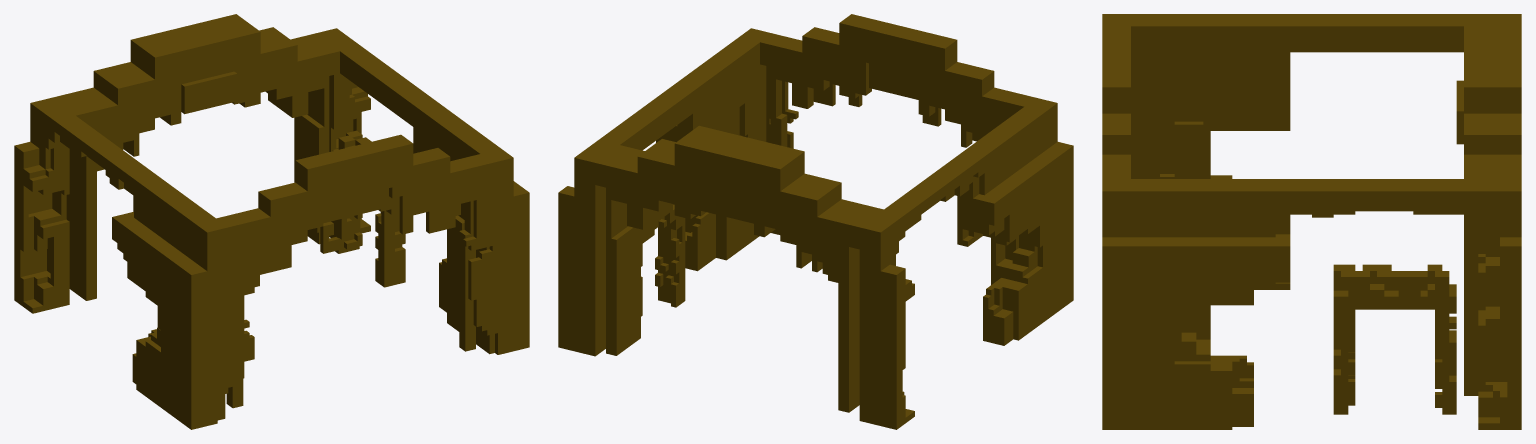
Rendered from House-5.obj.
The picture shows the model from 3 angles, left to right: view 1: azimuth 30°, elevation 25°; view 2: azimuth 150°, elevation 25°; view 3: azimuth 270°, elevation 25°; orthographic projection. The views are drawn at different scales.
Bounding box in the file's own units: 6.4 × 4.2 × 5.8.
Materials: 1 (1 with a texture image).
